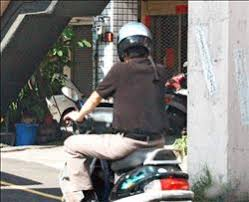helmet: (110, 14, 152, 50)
